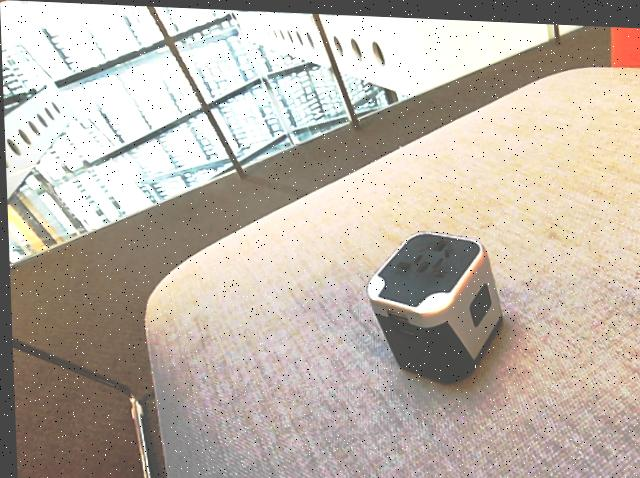adapter: (362, 224, 503, 382)
